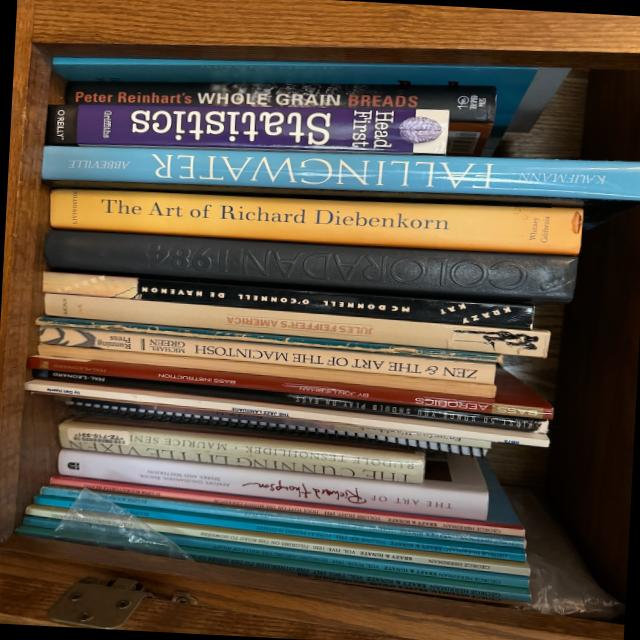book: (40, 143, 640, 229), (26, 344, 554, 420), (48, 181, 583, 256), (42, 229, 577, 304), (24, 376, 550, 450), (55, 434, 490, 520), (32, 364, 549, 435), (42, 293, 550, 358), (49, 474, 525, 539), (41, 272, 533, 330), (61, 324, 495, 385), (57, 416, 426, 485), (118, 502, 526, 563), (100, 491, 526, 549), (140, 517, 530, 577), (64, 75, 496, 125), (163, 532, 529, 589), (47, 102, 448, 154), (179, 545, 531, 604), (312, 573, 529, 611), (328, 422, 491, 449), (449, 124, 489, 156), (24, 503, 68, 520), (33, 493, 72, 508), (23, 514, 55, 530), (15, 525, 49, 537), (40, 486, 73, 497)
